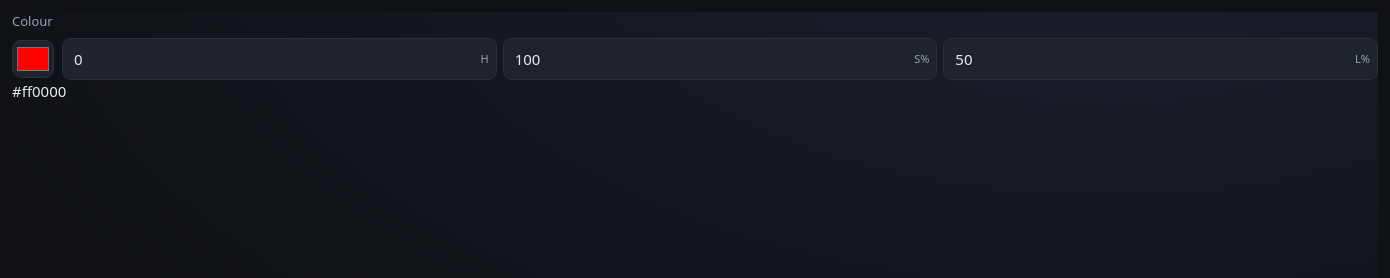
Test: ColorField — hsl format › re-encodes to hex when the hue changes
Replace the text in the number field named "H" with "120" at (279, 59), box [62, 38, 497, 80]
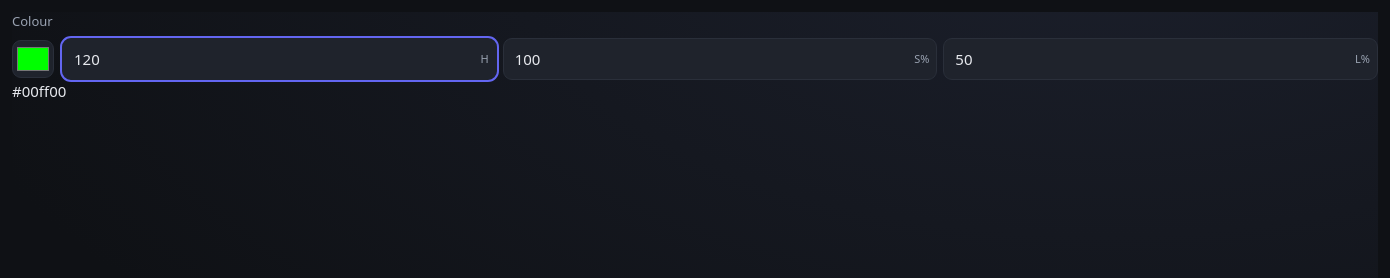
Expected: the text with test id "value" reads "#00ff00", [12, 81, 66, 101]
